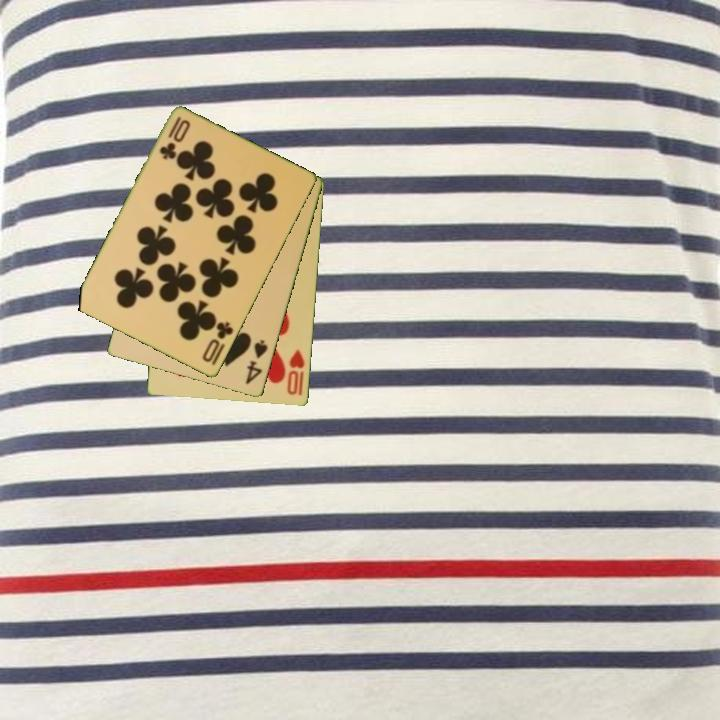10c: (199, 318, 236, 366), (156, 113, 184, 163)
10h: (284, 346, 308, 398)
4s: (242, 336, 271, 388)
